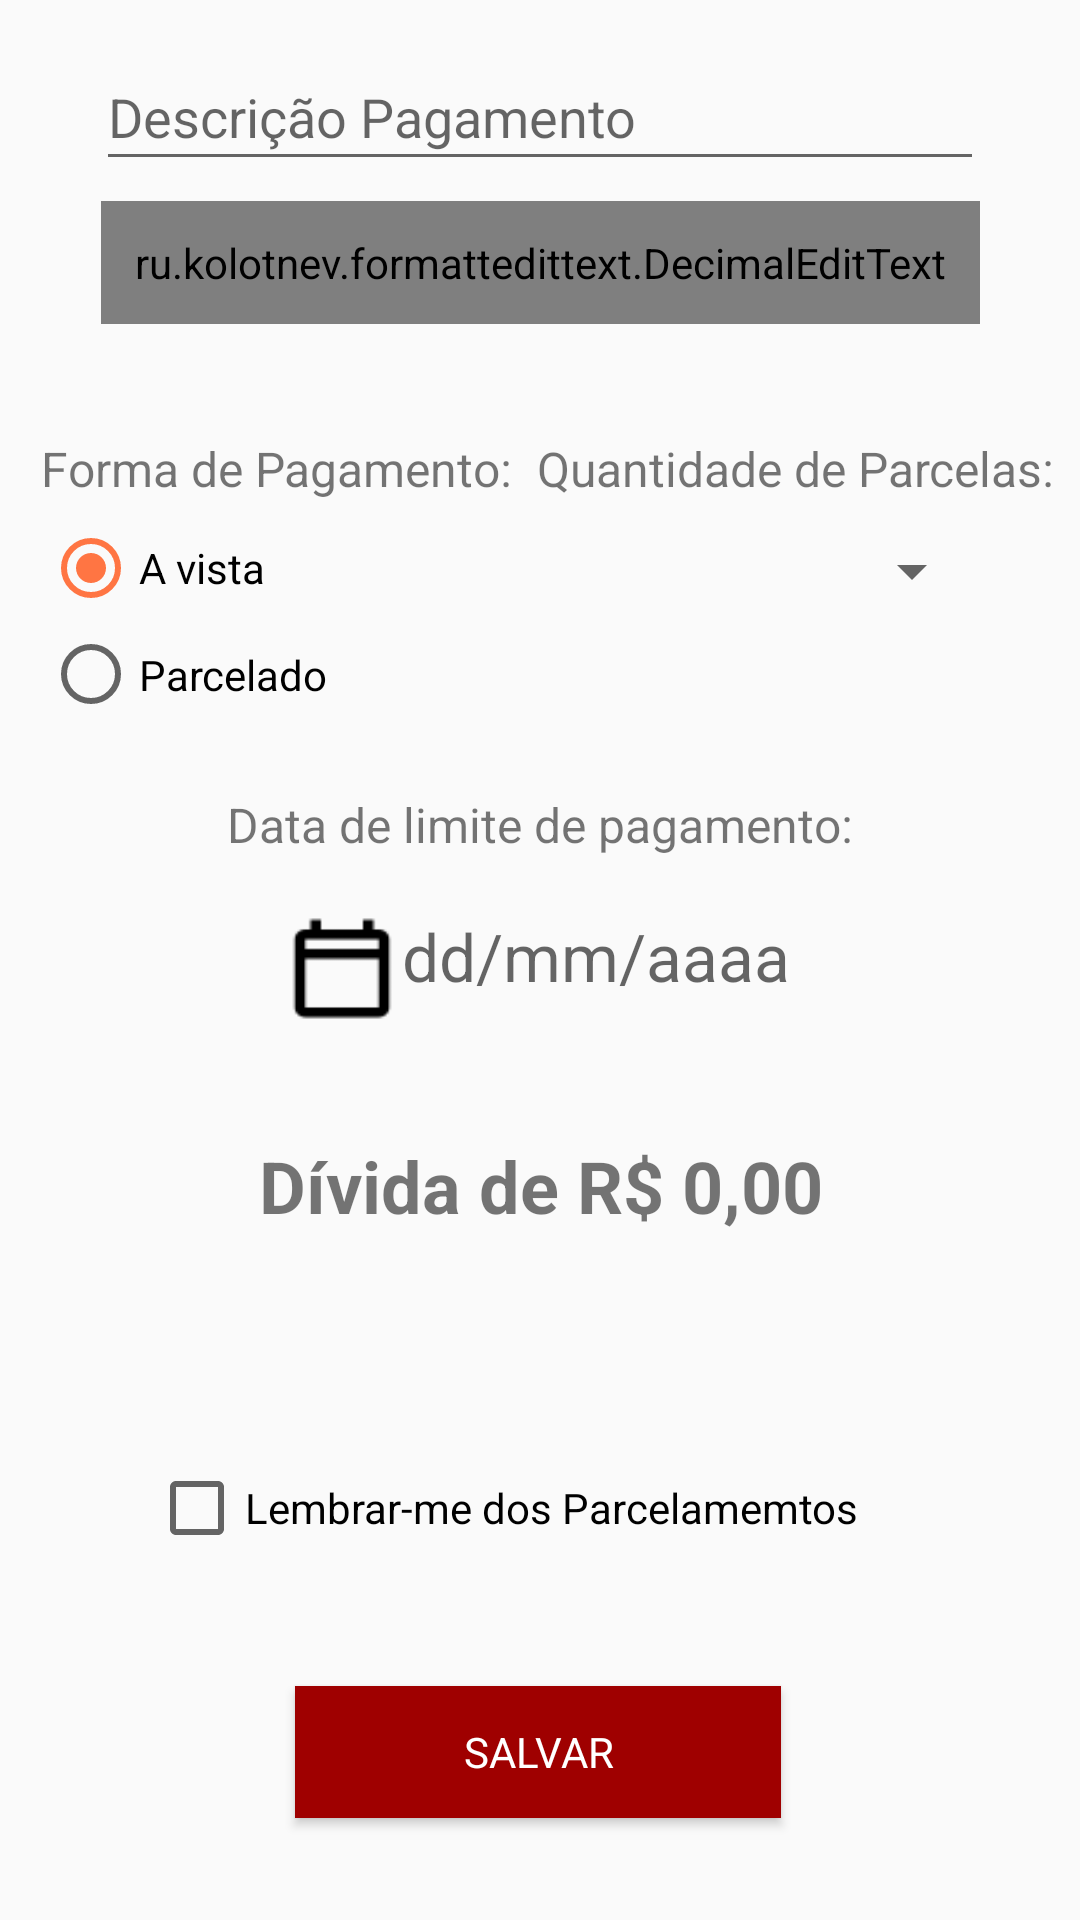

Screen size 1080 × 1920. Icon name, then its box in pixels as [left=x1, top=y1, right=x2, bottom=y2]:
calendar blank: [left=293, top=918, right=391, bottom=1019]
